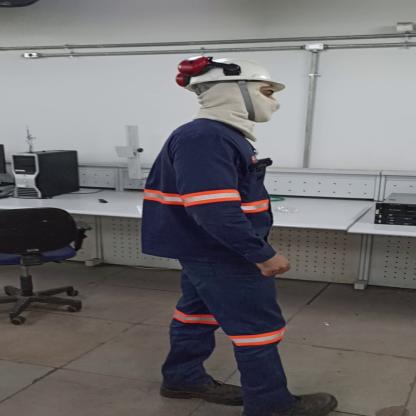Balaclava: (190, 84, 285, 140)
Capacete: (172, 55, 298, 89)
